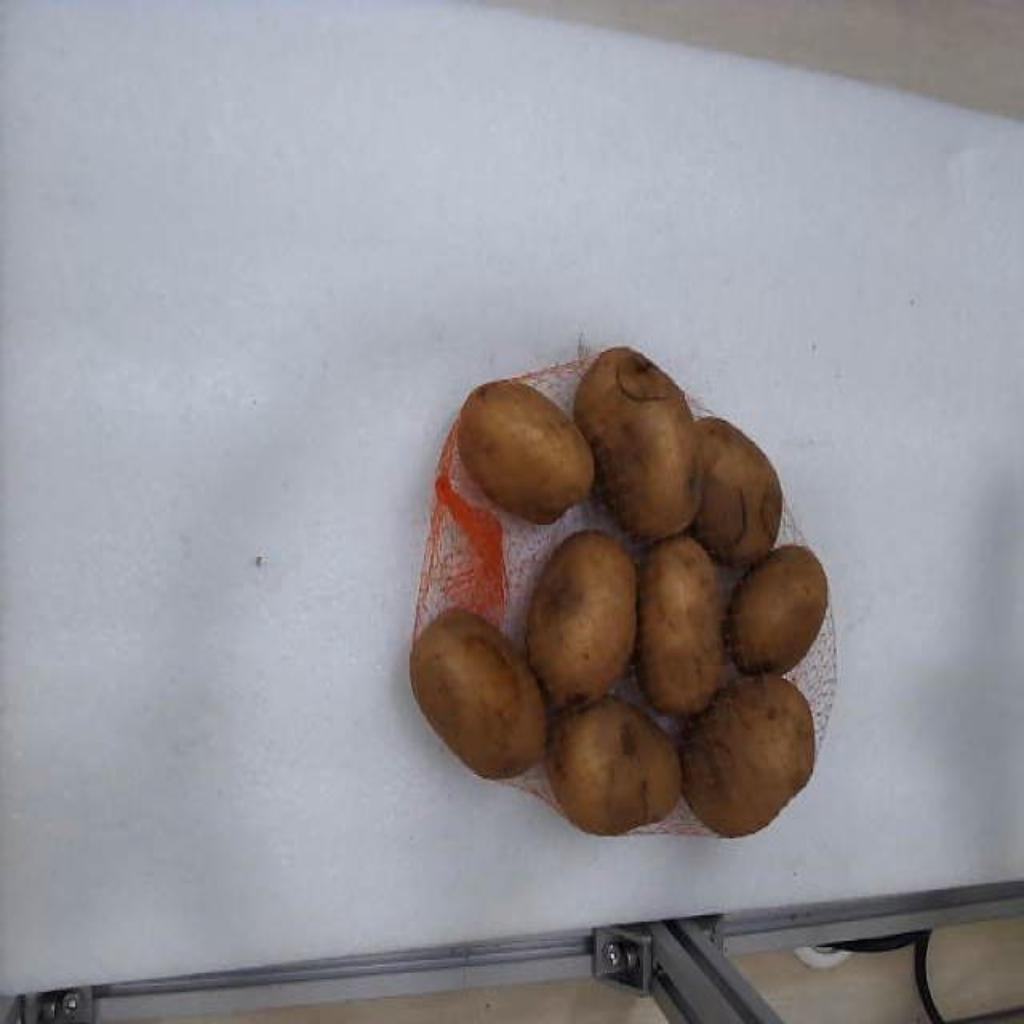potato: (574, 347, 700, 539), (414, 611, 546, 777), (682, 672, 814, 836), (458, 381, 594, 524), (546, 696, 682, 833), (526, 531, 634, 703), (638, 536, 722, 715), (694, 421, 782, 565), (730, 547, 828, 672)
